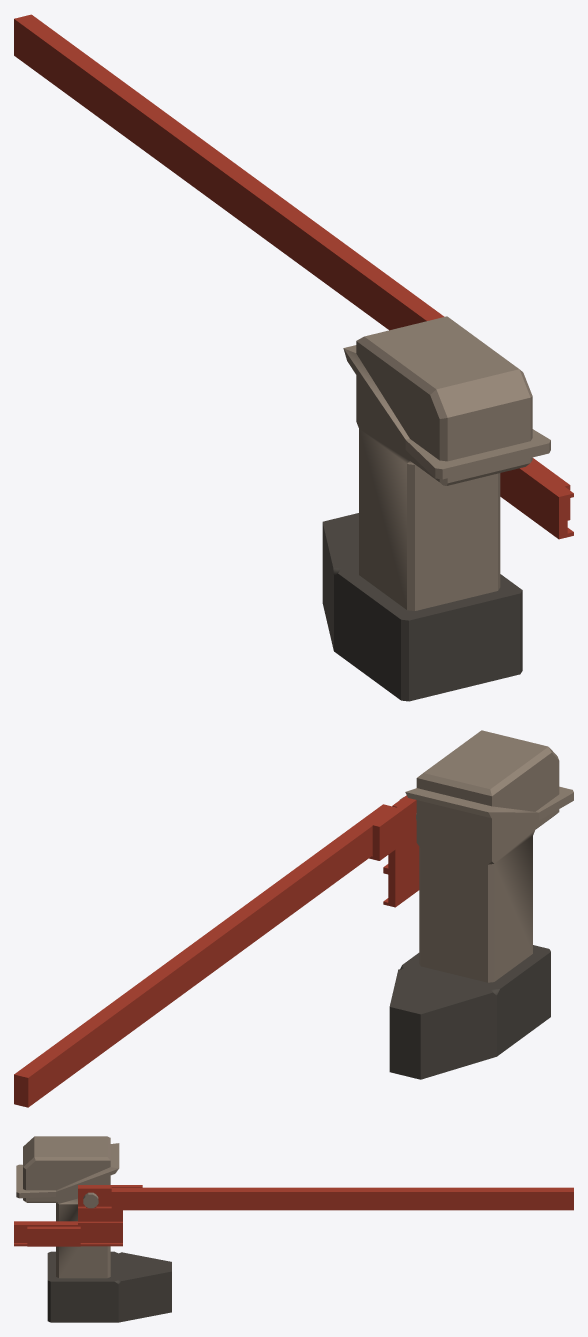
The model's file is barrier.fbx.
3 renders of one model, top to bottom at view 1: azimuth 30°, elevation 25°; view 2: azimuth 150°, elevation 25°; view 3: azimuth 270°, elevation 25°, orthographic. The views are drawn at different scales.
Visible parts, largest first — view 1: barrier, barrier_kol; view 2: barrier, barrier_kol; view 3: barrier_kol, barrier.
Boxes of the visible parts, x1=… form: barrier: x1=322, y1=316, x2=550, y2=701; barrier_kol: x1=14, y1=14, x2=573, y2=539; barrier: x1=389, y1=730, x2=573, y2=1079; barrier_kol: x1=14, y1=795, x2=419, y2=1107; barrier_kol: x1=14, y1=1185, x2=573, y2=1246; barrier: x1=16, y1=1136, x2=171, y2=1322.
Size of the model in its own units: 125 by 258 by 813.
1 material, 1 textured.
